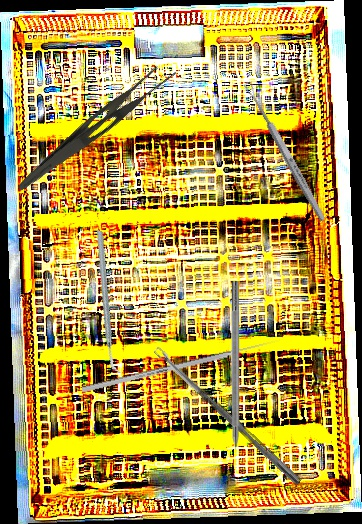Chopper: (55, 229, 162, 374)
Dressing Forceps: (15, 52, 180, 208)
Hook Surgical: (229, 281, 240, 470)
Pusher: (81, 337, 281, 394)
Surgical Spoon: (153, 345, 303, 486), (242, 79, 328, 224)
